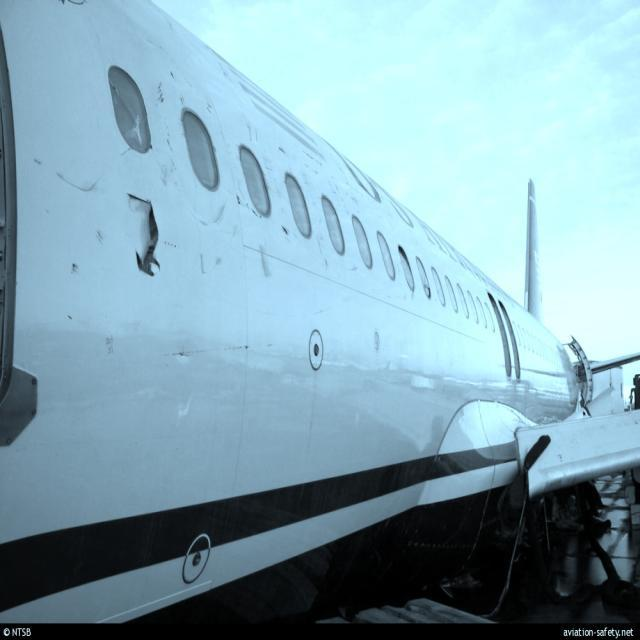crack: (123, 192, 165, 278)
